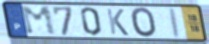0: (79, 6, 104, 38)
7: (50, 5, 74, 37)
I: (169, 6, 182, 40)
K: (105, 7, 130, 37)
M: (19, 5, 59, 36)
O: (129, 6, 158, 39)
